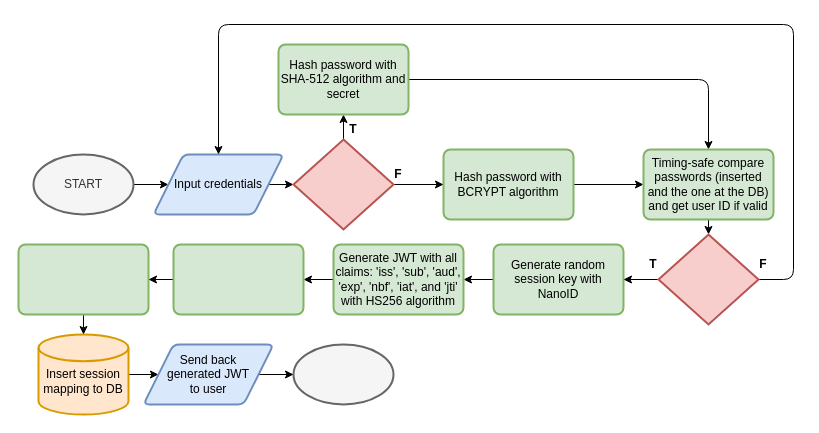
Some shapes in this 819 by 433 pixel diagram are drawn without their labels. Each missing label, with the box of its shape:
FINISH: (292, 343, 394, 405)
Generate session key value: 'SessionKey' and 'userId' with TTL of 24 hours: (17, 243, 149, 315)
Hash with SHA?: (292, 138, 394, 230)
Insert generated session key as JWT payload: (172, 243, 304, 315)
Valid credentials?: (657, 233, 759, 325)
